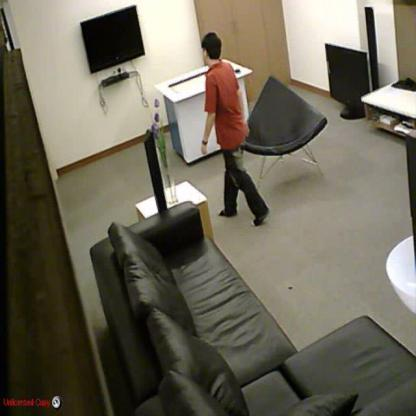Person: (201, 32, 270, 227)
